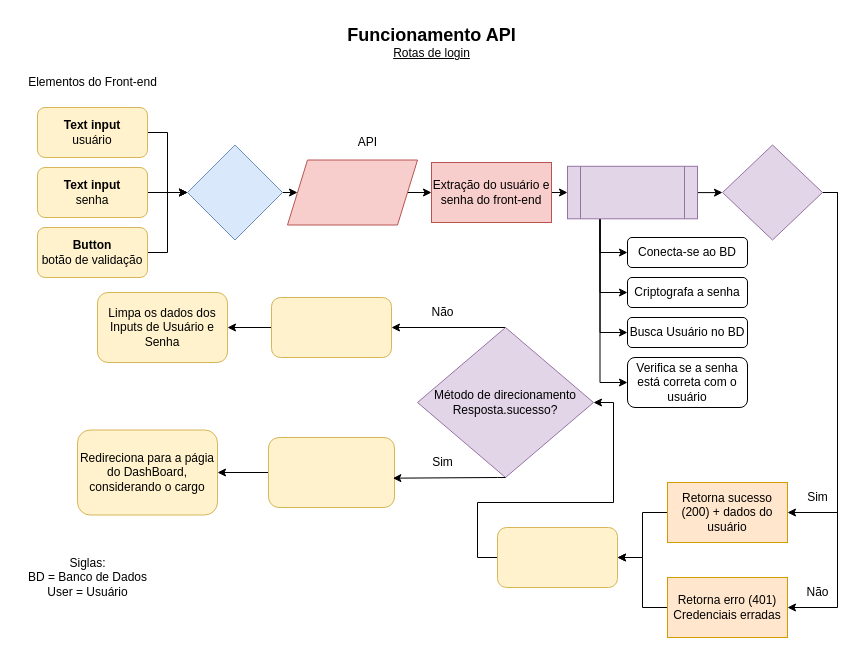
The diagram is 863 pixels wide and 655 high, and some of its shapes have lost their labels. The shapes that lost their labels are listed below. From the top down, each one's centre as x and y in pixels, then its label:
At point 234,192: "Botão pressionado".
At point 352,192: "Rota POST para /login".
At point 632,192: "Função verifica_usuario".
At point 772,192: "Usuário encontrado e ativo?".
At point 331,327: "Exibe mensagem de erro".
At point 331,472: "Salva os dados do user no Local Storage".
At point 557,557: "Front-end Recebe a resposta".
